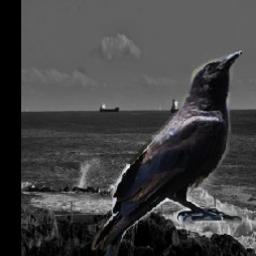Crow: (91, 49, 242, 256)
